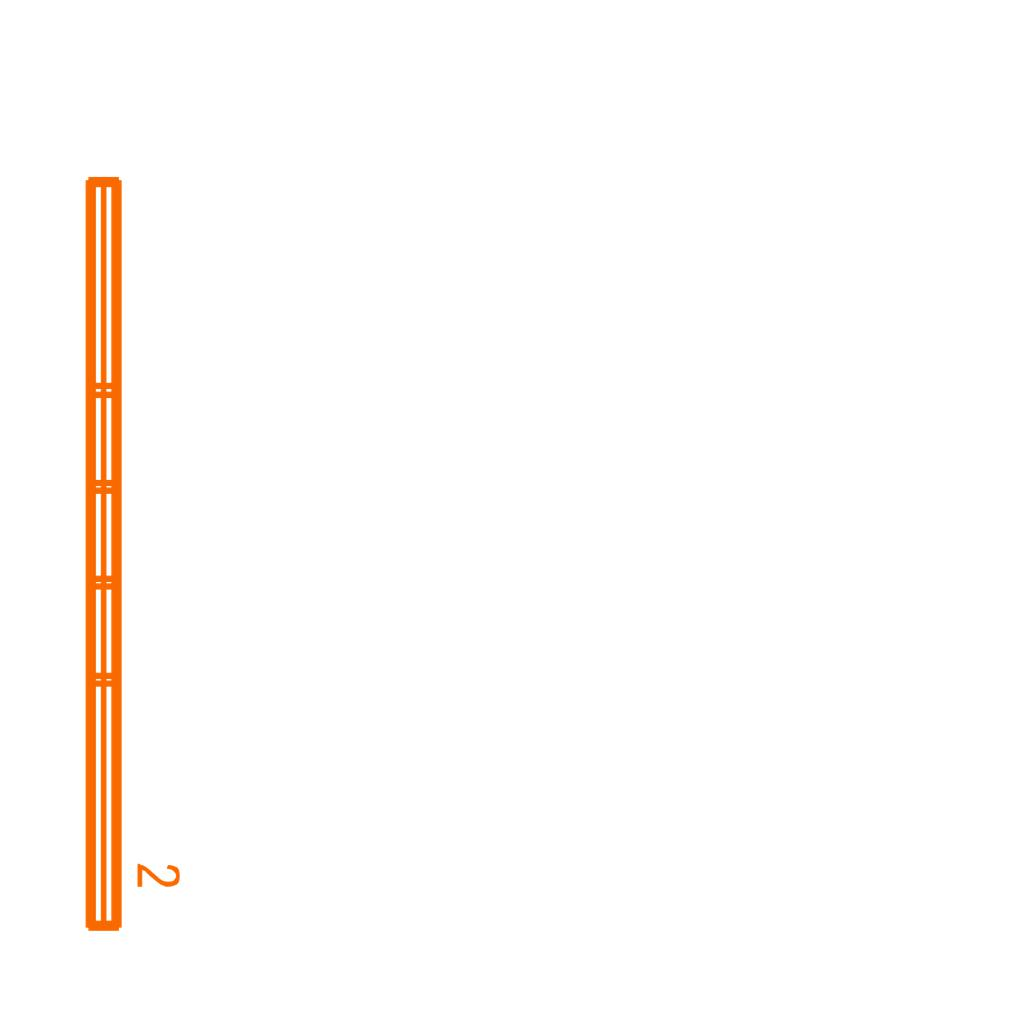Ambulanz_Pendelleuchte_LED: (73, 166, 185, 940)
